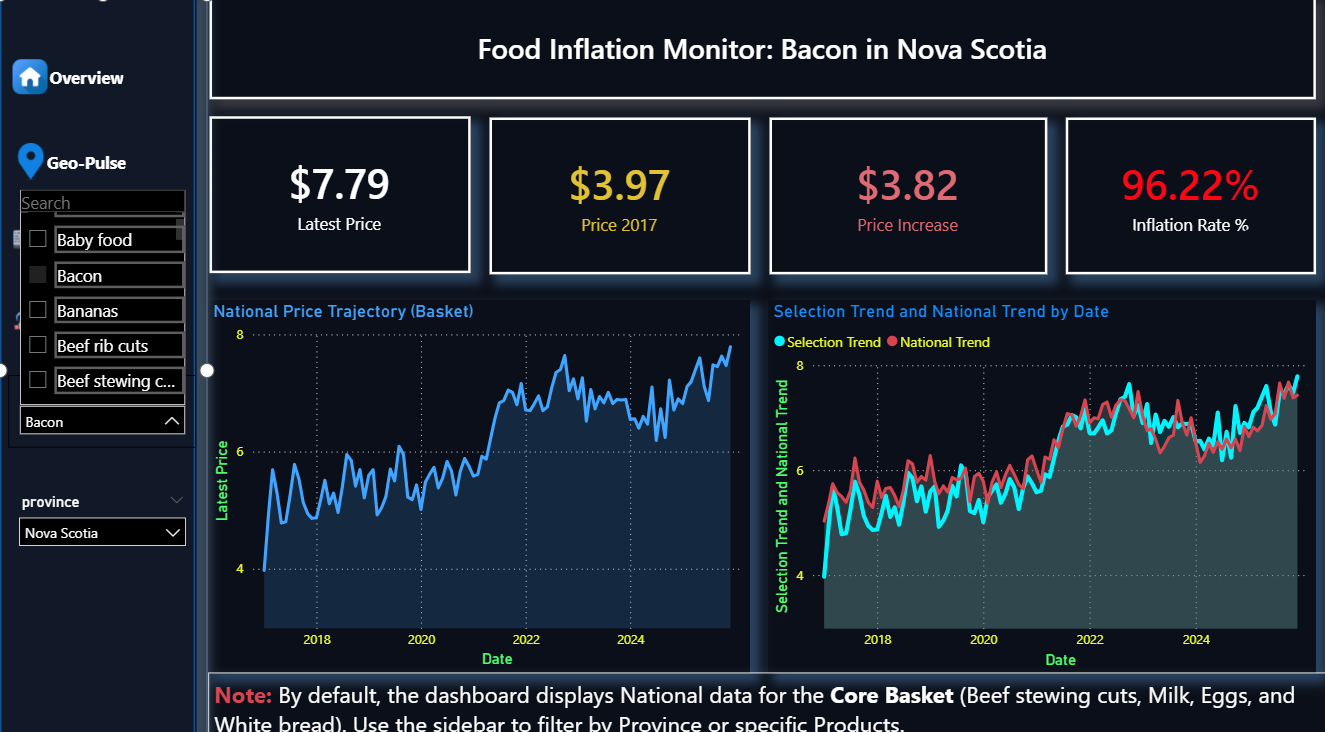

The page's visual inventory and layout, read from the dashboard file:
{"tool":"powerbi","page":{"name":"Overview","canvas":[1280,720],"ordinal":0},"visuals":[{"type":"shape","box":[7.8,0,188.5,720],"z":0,"group":"g1"},{"type":"cardVisual","fields":{"Data":["Cleaned_Grocery_Data.Latest Price"]},"box":[208.3,116,250,150],"z":0},{"type":"cardVisual","fields":{"Data":["Cleaned_Grocery_Data.Inflation Rate %"]},"box":[1030,117.8,240,150],"z":1000},{"type":"actionButton","box":[15.9,137.6,150,43.3],"z":1000,"group":"g1"},{"type":"cardVisual","fields":{"Data":["Cleaned_Grocery_Data.Value of $100 Today"]},"box":[476.7,117.7,250,150],"z":2000},{"type":"actionButton","box":[15.9,57.7,150,41.8],"z":3000,"group":"g1"},{"type":"cardVisual","fields":{"Data":["Cleaned_Grocery_Data.Price Increase"]},"box":[745,117.7,266.7,150],"z":3000},{"type":"lineChart","title":"National Price Trajectory (Basket)","fields":{"Y":["Cleaned_Grocery_Data.Latest Price"],"Category":["Cleaned_Grocery_Data.Date.Variation.Date Hierarchy.Year"]},"box":[207.8,292.2,518.9,357.8],"z":4000},{"type":"areaChart","fields":{"Category":["Cleaned_Grocery_Data.Date.Variation.Date Hierarchy.Year"],"Y":["Cleaned_Grocery_Data.Selection Trend","Cleaned_Grocery_Data.National Trend"]},"box":[744.4,292.2,525.6,357.8],"z":5000},{"type":"actionButton","box":[15.9,219,190.4,36.1],"z":6000,"group":"g1"},{"type":"textbox","box":[206.8,645.6,1062.8,69.8],"z":6000},{"type":"cardVisual","fields":{"Data":["Cleaned_Grocery_Data.Dynamic Title"]},"box":[208.9,0,1061.1,100],"z":7000},{"type":"group","id":"g1","title":"Group 1","box":[7.8,0,198.5,720],"z":8000},{"type":"actionButton","box":[15.9,293.2,151.5,33.2],"z":9000,"group":"g1"},{"type":"slicer","fields":{"Values":["Cleaned_Grocery_Data.GEO"]},"box":[15.9,471.8,180.3,69.3],"z":10000,"group":"g1"},{"type":"slicer","fields":{"Values":["Cleaned_Grocery_Data.Product_Name"]},"box":[15.9,364.4,180.3,69.3],"z":11000,"group":"g1"}]}

Visuals, with their boxes on the page's 1280x720 design canvas (x1, y1, x2, y2). These are canvas units, not pixel positions in the 1325x732 screenshot, which may show the page scaled, cropped or inside an application window:
shape: box=[8, 0, 196, 720]
cardVisual - Cleaned_Grocery_Data.Latest Price: box=[208, 116, 458, 266]
cardVisual - Cleaned_Grocery_Data.Inflation Rate %: box=[1030, 118, 1270, 268]
actionButton: box=[16, 138, 166, 181]
cardVisual - Cleaned_Grocery_Data.Value of $100 Today: box=[477, 118, 727, 268]
actionButton: box=[16, 58, 166, 100]
cardVisual - Cleaned_Grocery_Data.Price Increase: box=[745, 118, 1012, 268]
"National Price Trajectory (Basket)" lineChart: box=[208, 292, 727, 650]
areaChart - Cleaned_Grocery_Data.Date.Variation.Date Hierarchy.Year x Cleaned_Grocery_Data.Selection Trend: box=[744, 292, 1270, 650]
actionButton: box=[16, 219, 206, 255]
textbox: box=[207, 646, 1270, 715]
cardVisual - Cleaned_Grocery_Data.Dynamic Title: box=[209, 0, 1270, 100]
"Group 1" group: box=[8, 0, 206, 720]
actionButton: box=[16, 293, 167, 326]
slicer - Cleaned_Grocery_Data.GEO: box=[16, 472, 196, 541]
slicer - Cleaned_Grocery_Data.Product_Name: box=[16, 364, 196, 434]
